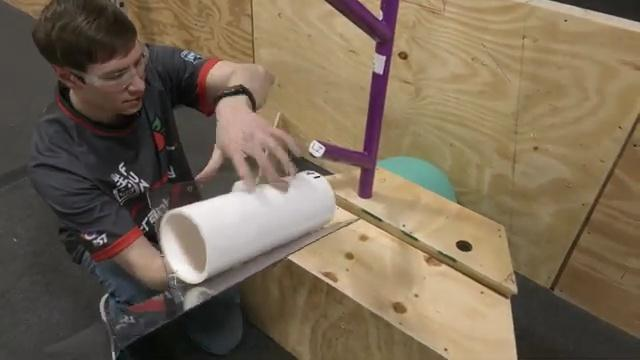CORAL: (157, 168, 337, 285)
